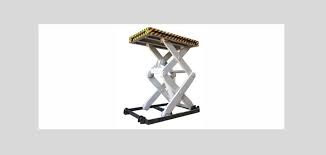Scissor Lift: (123, 26, 201, 125)
